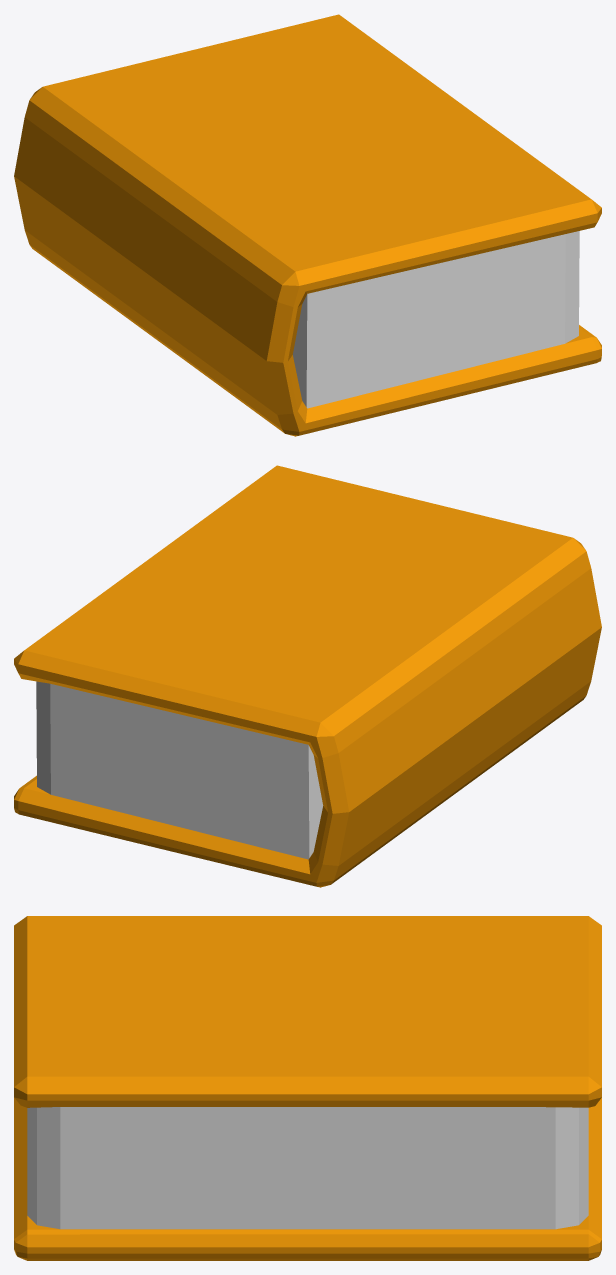
Rendered from Book1.fbx.
3 renders of one model, top to bottom at view 1: azimuth 30°, elevation 25°; view 2: azimuth 150°, elevation 25°; view 3: azimuth 270°, elevation 25°, orthographic. The views are drawn at different scales.
Parts seen in each view (by area): view 1: Book1; view 2: Book1; view 3: Book1.
Boxes of the visible parts, box(x1,y1,x2,y2) form: Book1: box(14, 14, 601, 436); Book1: box(14, 465, 601, 887); Book1: box(14, 916, 601, 1260).
Size of the model in its own units: 0.2573 by 0.121 by 0.3517.
Materials: 1 (1 with a texture image).
